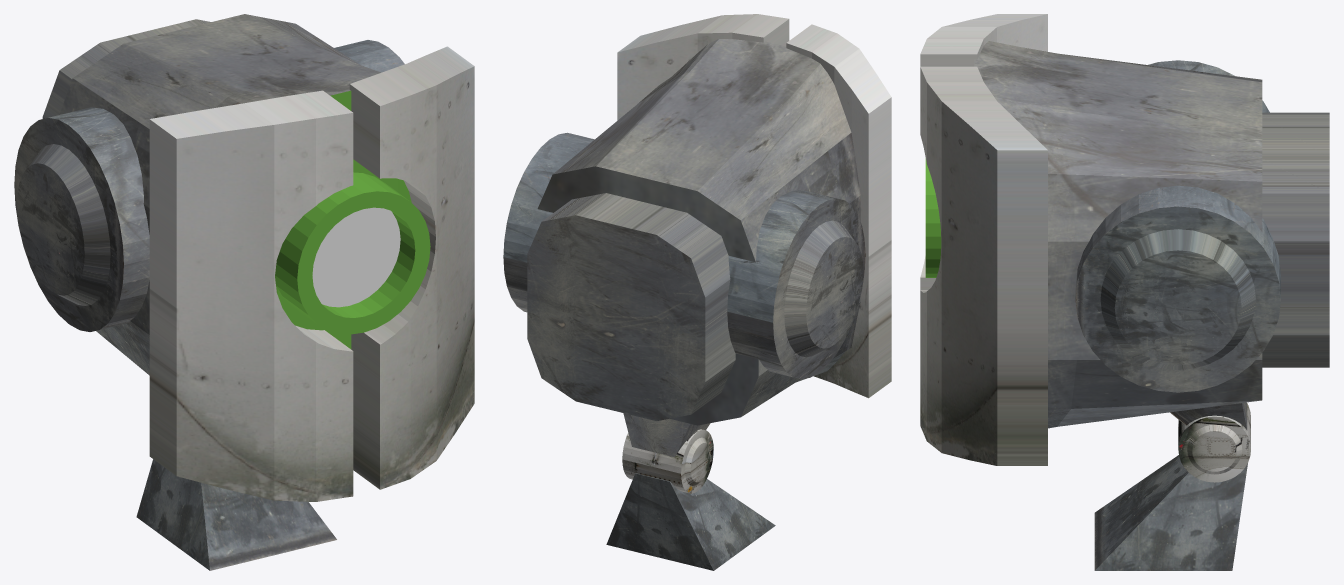
The model's file is Robot 5 heads.fbx.
3 renders of one model, left to right at view 1: azimuth 30°, elevation 25°; view 2: azimuth 150°, elevation 25°; view 3: azimuth 270°, elevation 25°, orthographic. The views are drawn at different scales.
Visible parts, largest first — view 1: Cube.019, Cube.005, Cylinder.006, Cylinder.001, Cube.014; view 2: Cube.005, Cylinder.006, Cube.019, Cube.014, Cylinder.010, Cube.004; view 3: Cube.005, Cube.019, Cylinder.006, Cube.014, Cylinder.010, Cylinder.001, Cube.004.
Part boxes in pixels (x1,y1,x2,y2): Cube.019: (149,46,474,501); Cube.005: (42,14,411,375); Cylinder.006: (14,40,404,331); Cylinder.001: (275,172,430,334); Cube.014: (136,459,336,570); Cube.005: (527,39,860,425); Cylinder.006: (503,132,865,379); Cube.019: (617,14,891,398); Cube.014: (606,473,775,570); Cylinder.010: (622,429,713,493); Cube.004: (623,413,710,457); Cube.005: (974,41,1329,428); Cube.019: (920,14,1047,465); Cylinder.006: (1075,60,1280,392); Cube.014: (1094,455,1247,570); Cylinder.010: (1178,403,1250,482); Cylinder.001: (925,158,941,277); Cube.004: (1170,402,1247,430).
Bounding box in the file's own units: 173 × 238 × 184.
